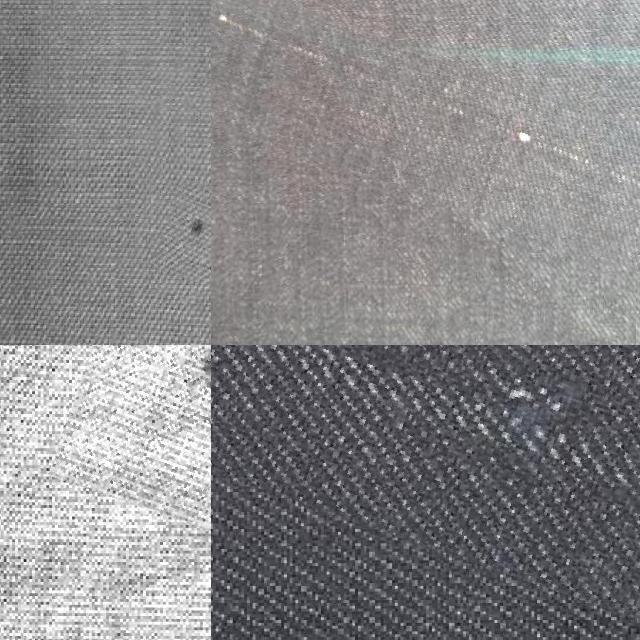Thread_other: (211, 345, 640, 584), (211, 20, 640, 256), (72, 345, 211, 589)
seam: (156, 181, 211, 283)
